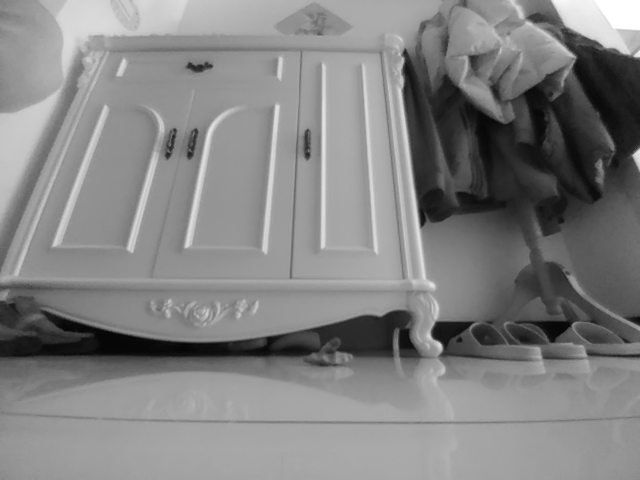pet feces: (302, 335, 352, 365)
shoe: (1, 296, 97, 353), (445, 322, 543, 363), (499, 320, 587, 360), (555, 320, 640, 360)
